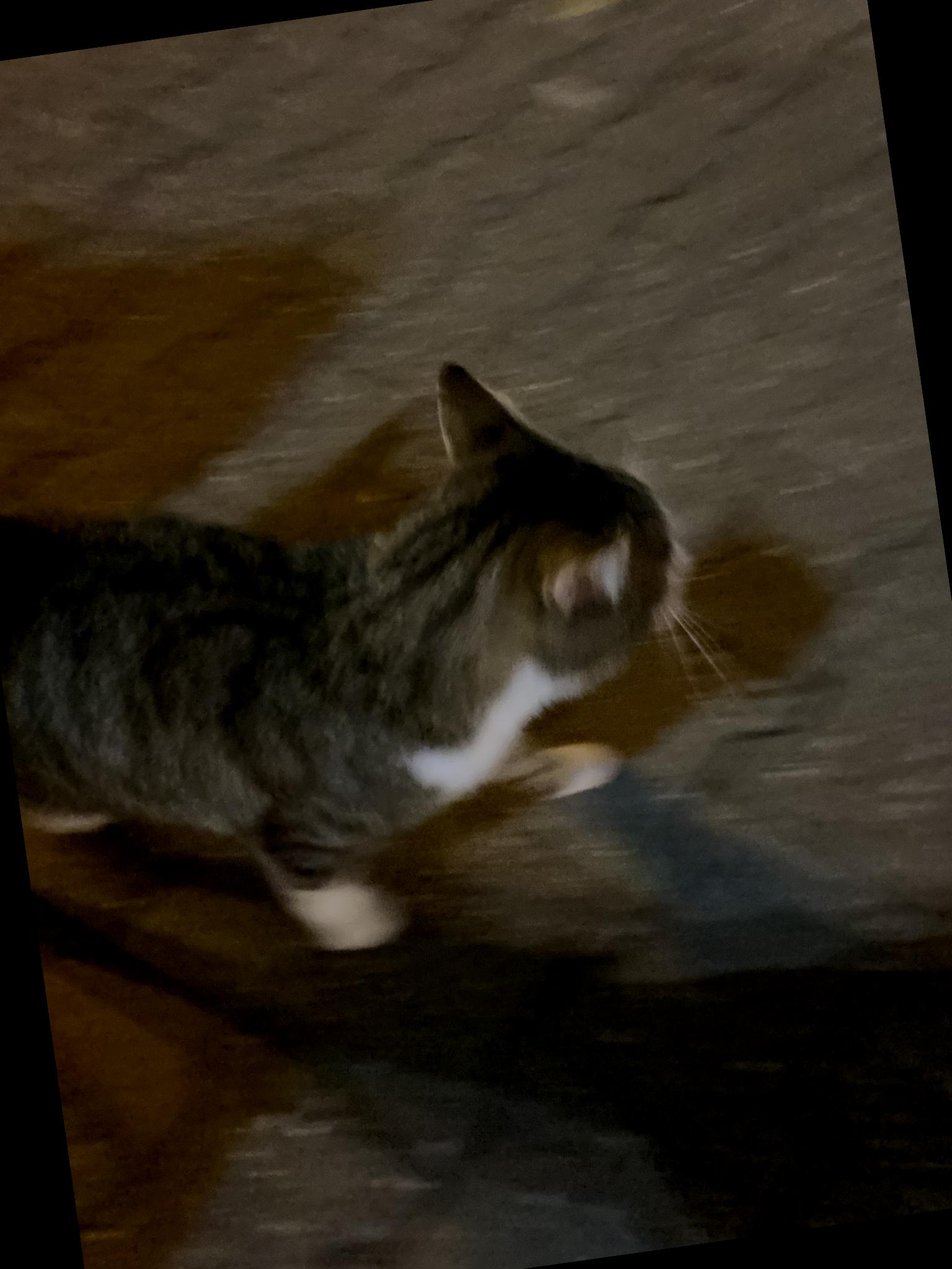macka: (0, 328, 739, 992)
